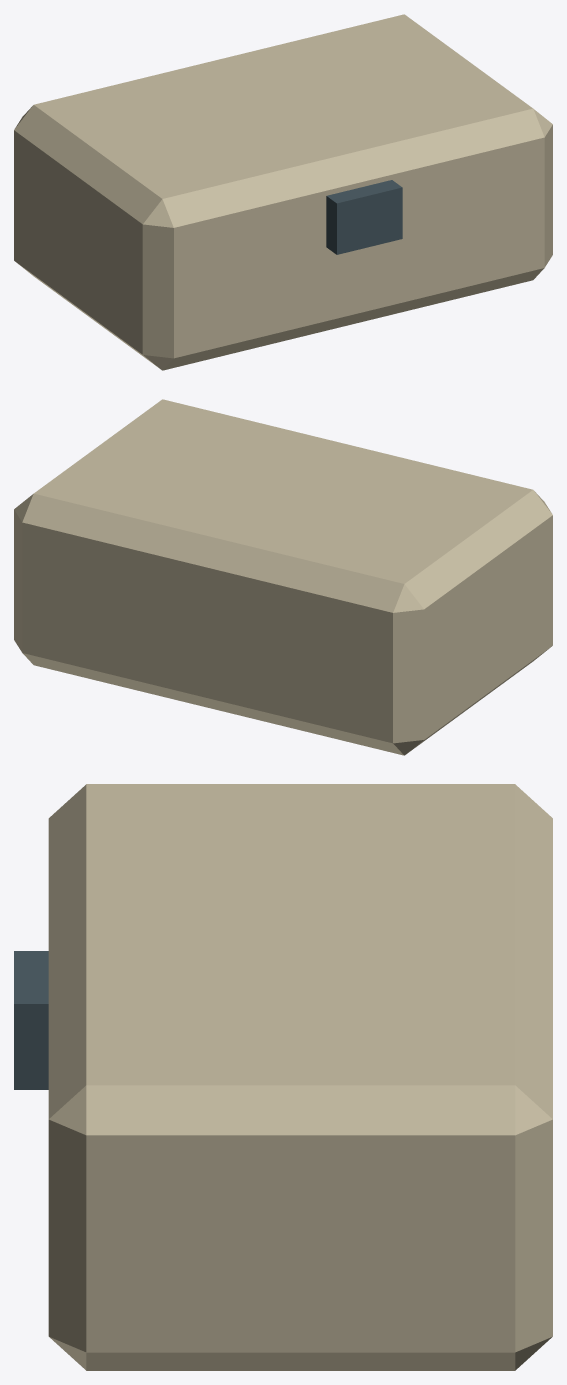
File: set_coffee_bag.glb
3 views of the same model, one above another, from view 1: azimuth 30°, elevation 25°; view 2: azimuth 150°, elevation 25°; view 3: azimuth 270°, elevation 25° (orthographic). The views are drawn at different scales.
Visible parts, largest first — view 1: set_coffee_bag; view 2: set_coffee_bag; view 3: set_coffee_bag.
Boxes of the visible parts, bbox=[...] form: set_coffee_bag: bbox=[14, 14, 552, 370]; set_coffee_bag: bbox=[14, 399, 552, 755]; set_coffee_bag: bbox=[14, 784, 552, 1370].
Size of the model in its own units: 0.25 by 0.1 by 0.171.
